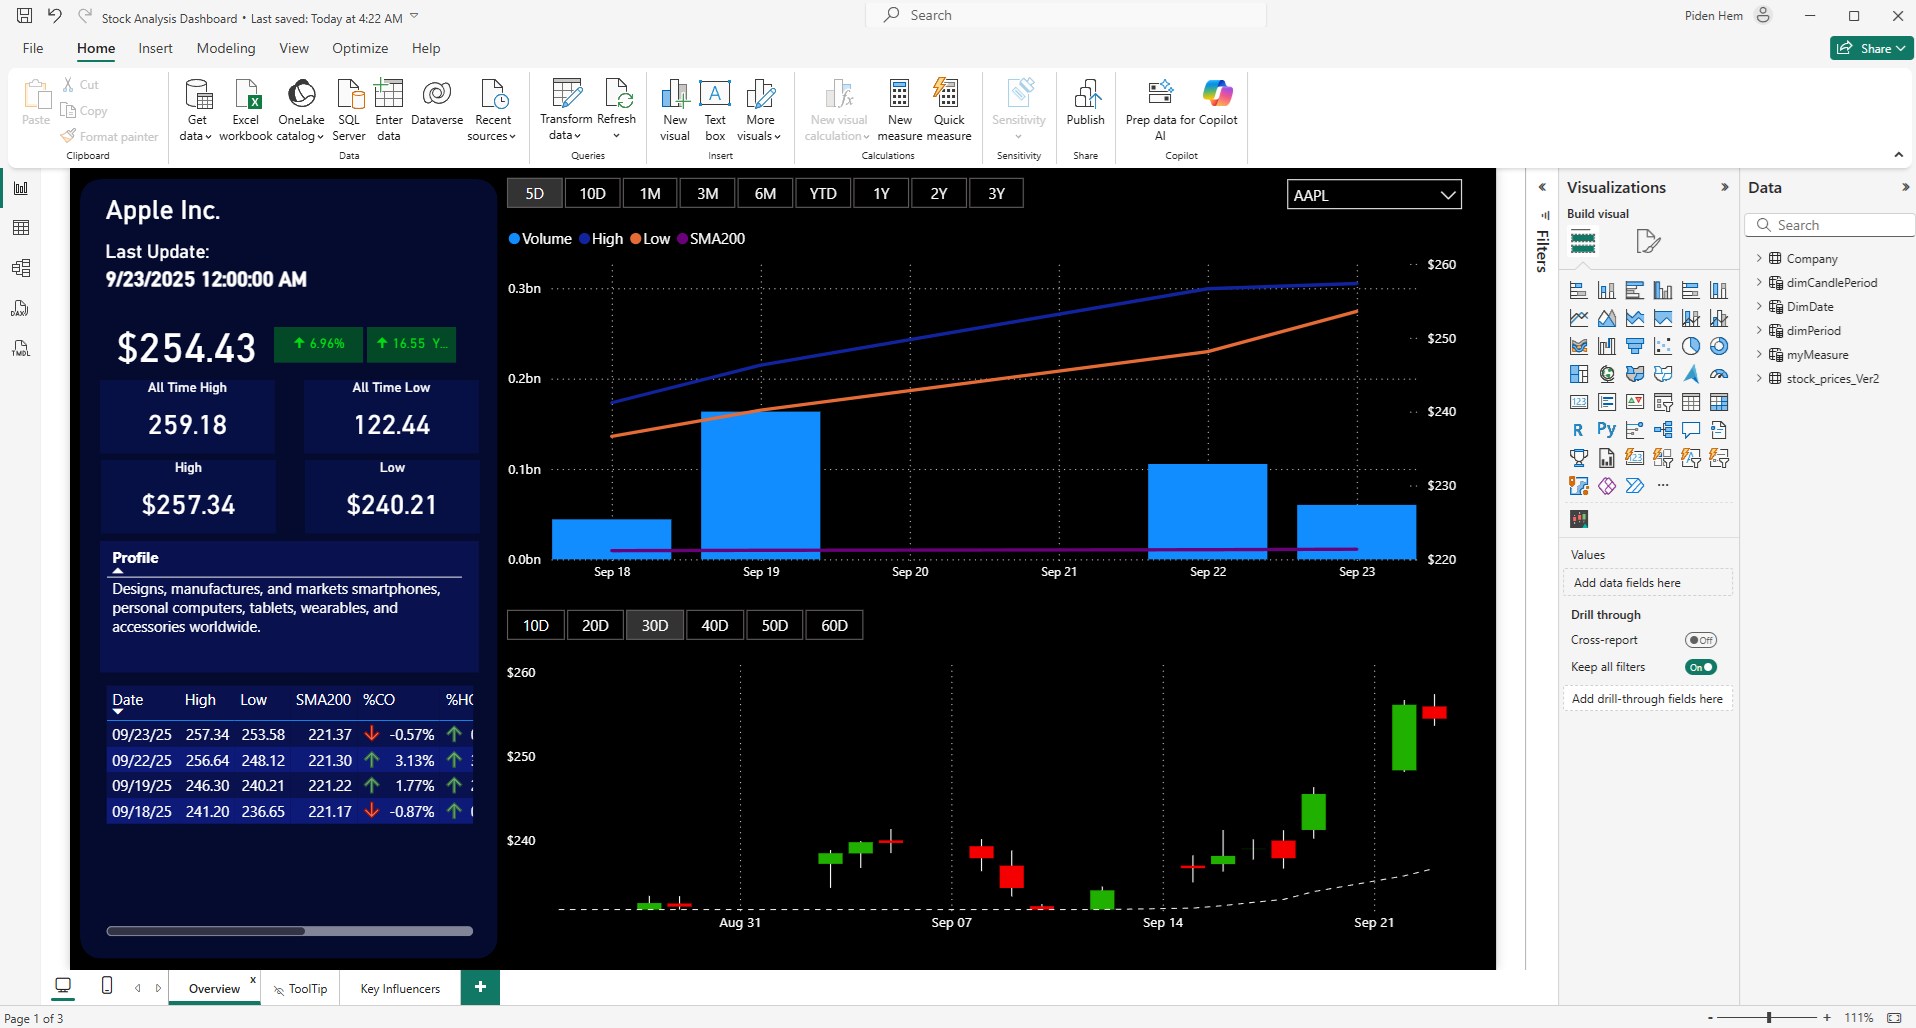

What the dashboard file says about the page in this screenshot:
{"tool":"powerbi","page":{"name":"Overview","canvas":[1280,720],"ordinal":0},"visuals":[{"type":"shape","box":[8.8,10,375,700],"z":0},{"type":"tableEx","fields":{"Values":["stock_prices_Ver2.Price_Date","stock_prices_Ver2.High","stock_prices_Ver2.Low","stock_prices_Ver2.SMA200","stock_prices_Ver2.%OC","stock_prices_Ver2.%HO","stock_prices_Ver2.%HC","stock_prices_Ver2.%HvSMA20","stock_prices_Ver2.%LvSMA20"]},"box":[26.9,459.2,340,235.4],"z":1000},{"type":"lineClusteredColumnComboChart","fields":{"Category":["stock_prices_Ver2.Price_Date"],"Y":["Avg(stock_prices_Ver2.Volume)"],"Y2":["myMeasure.High","myMeasure.Low","Avg(stock_prices_Ver2.SMA200)"]},"box":[387.8,43.1,861.8,337.6],"z":2000},{"type":"slicer","fields":{"Values":["dimPeriod.Period"]},"box":[366.7,1.7,514.4,41.1],"z":3000},{"type":"slicer","fields":{"Values":["stock_prices_Ver2.Ticker"]},"box":[1082.9,0,177.1,50],"z":4000},{"type":"multiRowCard","fields":{"Values":["Company.Company"]},"box":[27,19,350,45],"z":5000},{"type":"multiRowCard","title":"Last Update:","fields":{"Values":["myMeasure.last Close Date"]},"box":[26.7,65,350,63.3],"z":6000},{"type":"slicer","fields":{"Values":["dimCandlePeriod.CandlePeriod"]},"box":[366.2,390,370,40],"z":7000},{"type":"lineStackedColumnComboChart","title":"customCandle","fields":{"Category":["stock_prices_Ver2.Price_Date"],"Y":["myMeasure.Low","myMeasure.LowDistance","myMeasure.BullishCandle","myMeasure.BearishCandle"],"Y2":["myMeasure.High","myMeasure.Low","myMeasure.Moving average"]},"box":[386.7,430,862.9,265.7],"z":8000},{"type":"card","fields":{"Values":["myMeasure.Last Close Price"]},"box":[27.1,125.4,155.7,65.7],"z":9000},{"type":"card","fields":{"Values":["myMeasure.Variation %"]},"box":[183.3,142.8,80,32.2],"z":10000},{"type":"card","fields":{"Values":["myMeasure.Variation #"]},"box":[266.7,142.8,80,32.2],"z":11000},{"type":"tableEx","fields":{"Values":["Company.Profile"]},"box":[26.9,334.6,340,117.7],"z":12000},{"type":"card","title":"All Time High","fields":{"Values":["Max(stock_prices_Ver2.High)"]},"box":[26.9,190.8,156.9,66.2],"z":13000},{"type":"card","title":"All Time Low","fields":{"Values":["Min(stock_prices_Ver2.Low)"]},"box":[210,190.8,156.9,66.2],"z":14000},{"type":"card","title":"High","fields":{"Values":["myMeasure.selectedPeriodMaxHigh"]},"box":[27.7,262.3,156.9,66.2],"z":15000},{"type":"card","title":"Low","fields":{"Values":["myMeasure.selectedPeriodMinLow"]},"box":[210.8,262.3,156.9,66.2],"z":16000}]}

Visuals, with their boxes on the page's 1280x720 design canvas (x1, y1, x2, y2). These are canvas units, not pixel positions in the 1916x1028 screenshot, which may show the page scaled, cropped or inside an application window:
shape: (9,10,384,710)
tableEx - stock_prices_Ver2.Price_Date x stock_prices_Ver2.High: (27,459,367,695)
lineClusteredColumnComboChart - stock_prices_Ver2.Price_Date x Avg(stock_prices_Ver2.Volume): (388,43,1250,381)
slicer - dimPeriod.Period: (367,2,881,43)
slicer - stock_prices_Ver2.Ticker: (1083,0,1260,50)
multiRowCard - Company.Company: (27,19,377,64)
"Last Update:" multiRowCard: (27,65,377,128)
slicer - dimCandlePeriod.CandlePeriod: (366,390,736,430)
"customCandle" lineStackedColumnComboChart: (387,430,1250,696)
card - myMeasure.Last Close Price: (27,125,183,191)
card - myMeasure.Variation %: (183,143,263,175)
card - myMeasure.Variation #: (267,143,347,175)
tableEx - Company.Profile: (27,335,367,452)
"All Time High" card: (27,191,184,257)
"All Time Low" card: (210,191,367,257)
"High" card: (28,262,185,328)
"Low" card: (211,262,368,328)
